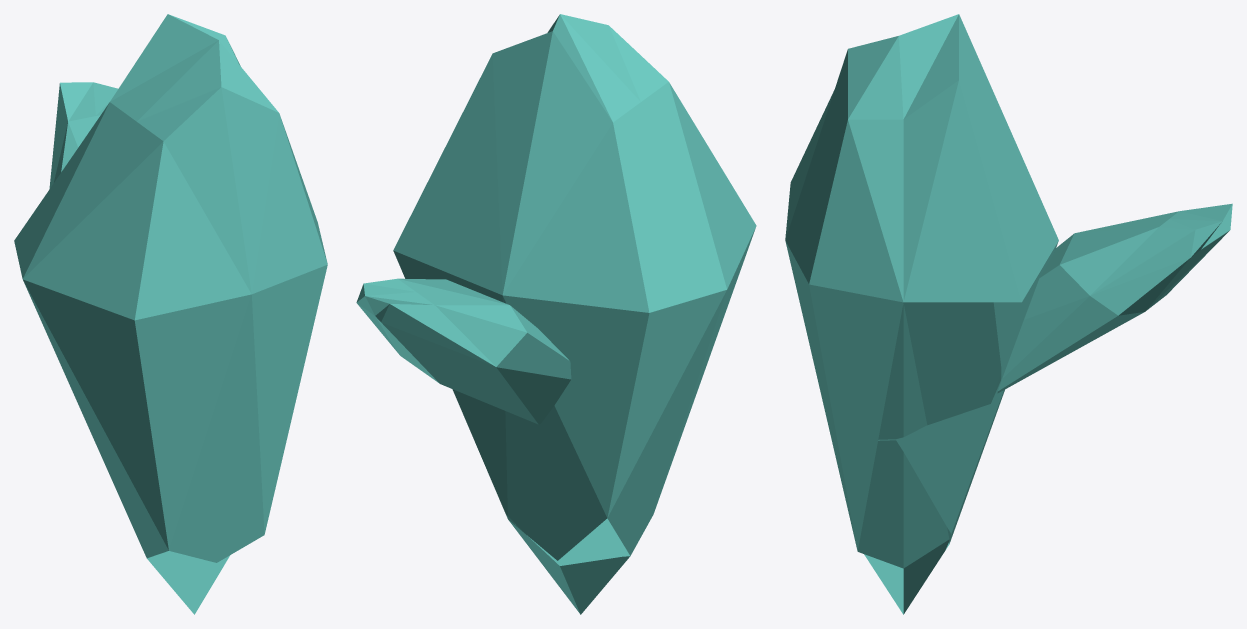
File: fractured_crystal.fbx
3 renders of one model, left to right at view 1: azimuth 30°, elevation 25°; view 2: azimuth 150°, elevation 25°; view 3: azimuth 270°, elevation 25°, orthographic. The views are drawn at different scales.
Parts seen in each view (by area): view 1: ice_crystal; view 2: ice_crystal, ice_crystal_cell.002, ice_crystal_cell.004; view 3: ice_crystal, ice_crystal_cell, ice_crystal_cell.004, ice_crystal_cell.002.
Part boxes in pixels (x1,y1,x2,y2): ice_crystal: (14,14,327,614); ice_crystal: (356,14,756,565); ice_crystal_cell.002: (451,15,627,211); ice_crystal_cell.004: (505,513,629,614); ice_crystal: (785,15,1232,614); ice_crystal_cell: (878,184,1001,439); ice_crystal_cell.004: (857,440,950,614); ice_crystal_cell.002: (899,14,1022,172).
Size of the model in its own units: 50.33 by 99.97 by 67.46.
